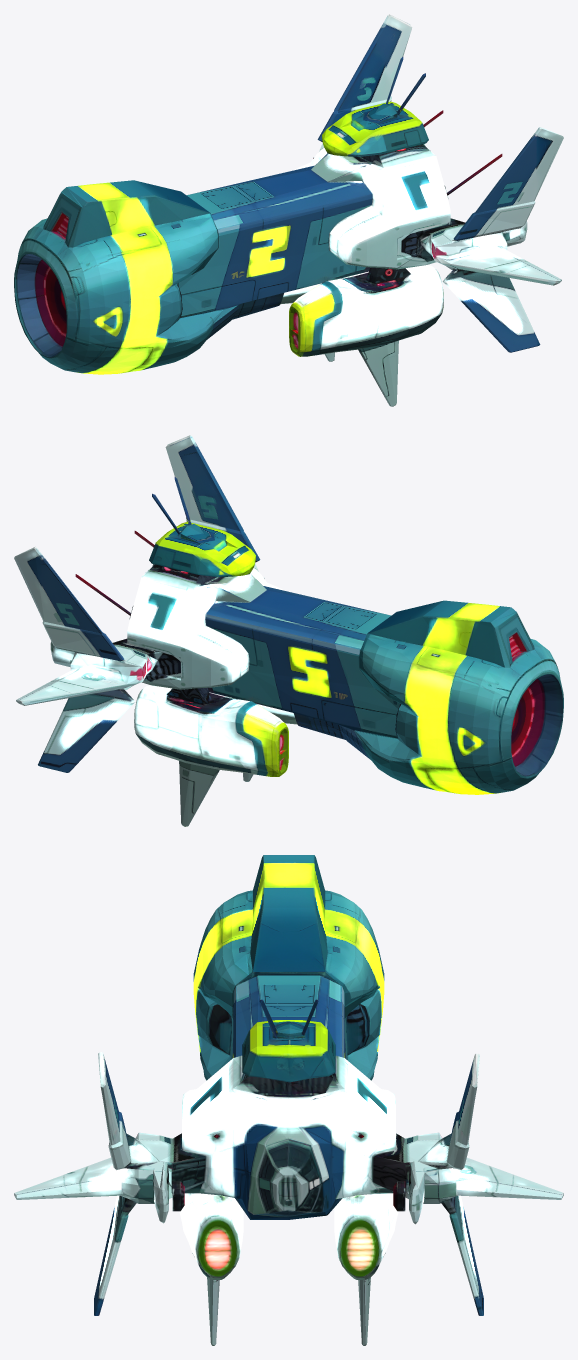
File: Meshy_AI_Neon_Voyager_0529140031_texture.glb
3 renders of one model, top to bottom at view 1: azimuth 30°, elevation 25°; view 2: azimuth 150°, elevation 25°; view 3: azimuth 270°, elevation 25°, orthographic. The views are drawn at different scales.
Bounding box in the file's own units: 1.89 × 1.24 × 1.64.
Materials: 1 (1 with a texture image).
